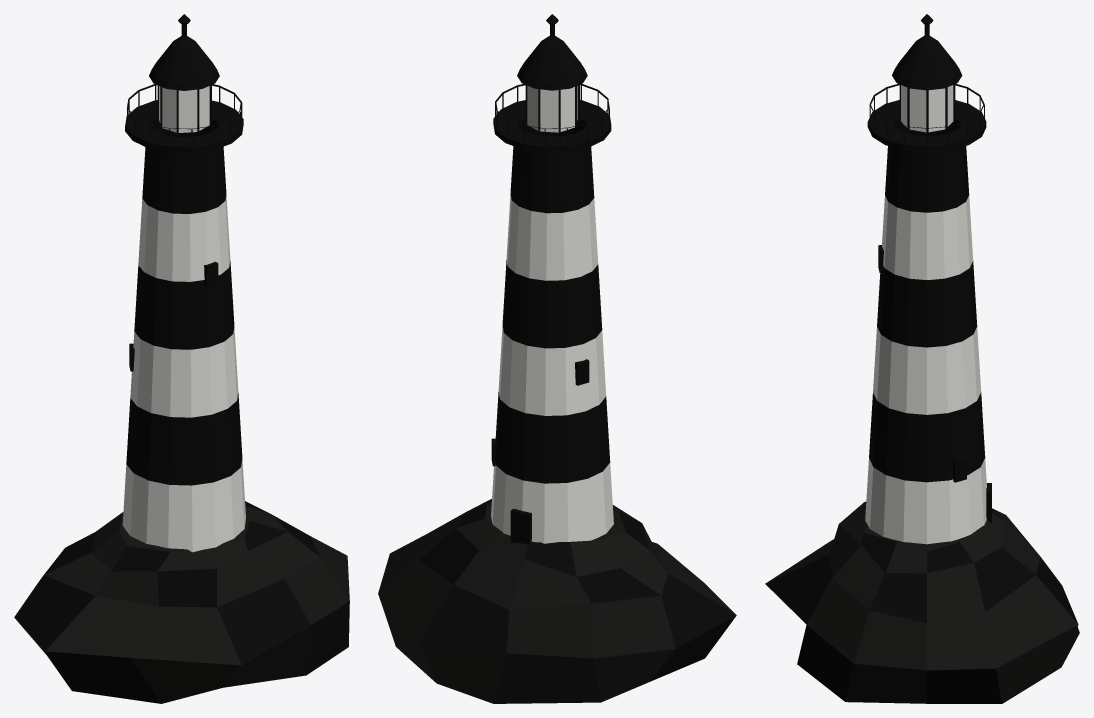
Rendered from prop-lighthouse.glb.
3 renders of one model, left to right at view 1: azimuth 30°, elevation 25°; view 2: azimuth 150°, elevation 25°; view 3: azimuth 270°, elevation 25°, orthographic.
Visible parts, largest first — view 1: lighthouse; view 2: lighthouse; view 3: lighthouse.
Part boxes in pixels (box(x1,y1,x2,y2)): lighthouse: box(14, 14, 349, 703); lighthouse: box(378, 14, 736, 703); lighthouse: box(765, 14, 1079, 703).
Bounding box in the file's own units: 26.43 × 49.39 × 22.3.
1 material, 1 textured.
